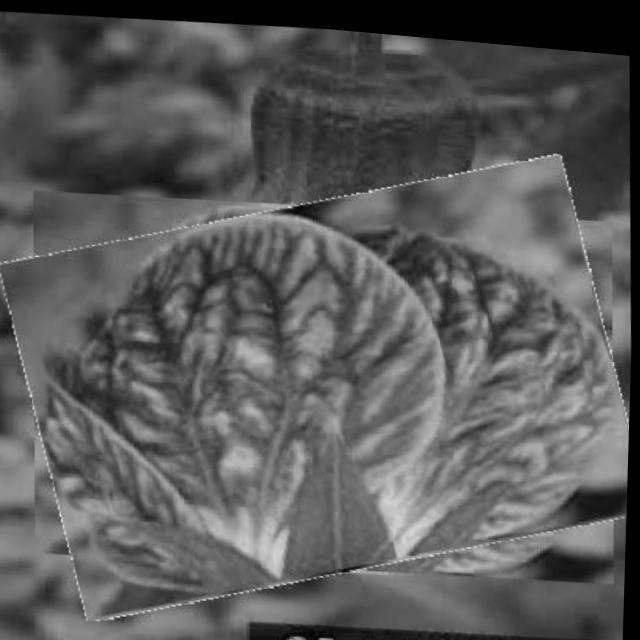Flower: (4, 134, 637, 628)
